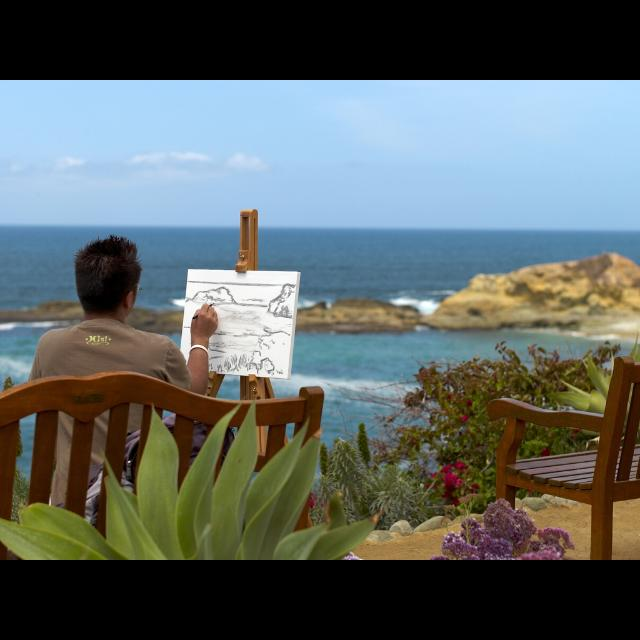Flower: (432, 500, 574, 560), (428, 465, 478, 501), (538, 445, 552, 455), (454, 459, 464, 469), (459, 416, 467, 420)
